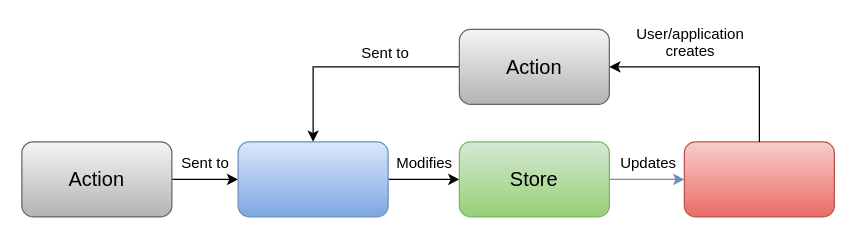
Some shapes in this 856 by 239 pixel diagram are drawn without their labels. Here are the shapes that lost their labels. From the top down, the centre of each, then its label:
(x=312, y=179): Dispatcher
(x=758, y=179): View
